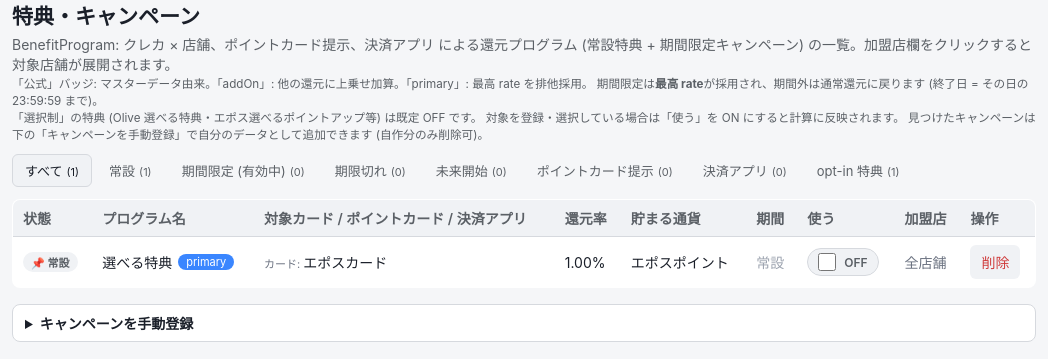
it: BenefitsScreen opt-in トグル › opt-in 特典の「使う」トグルで setProgramEnabled が反映される
Expected: the text "OFF" is shown, [844,254,868,270]
Click the checkbox labelled "OFF". click: point(827, 262)
box: [818,253,836,271]
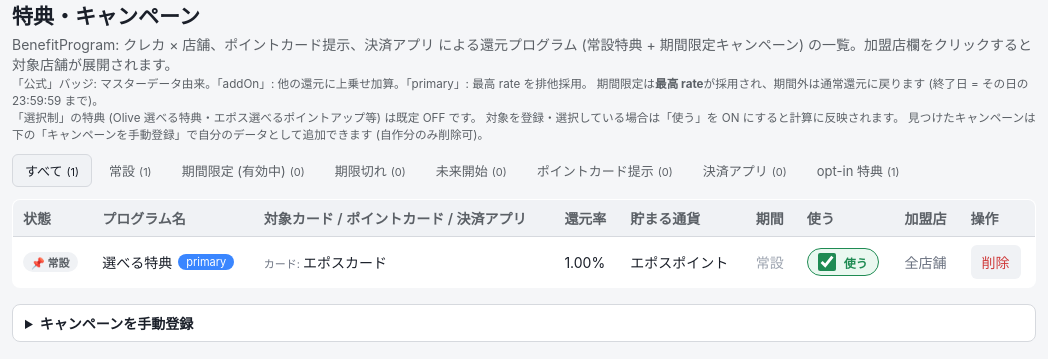
Expected: the checkbox labelled "使う" is checked, [818,253,836,271]
Expected: the text "OFF" reads "使う", [844,256,868,270]
